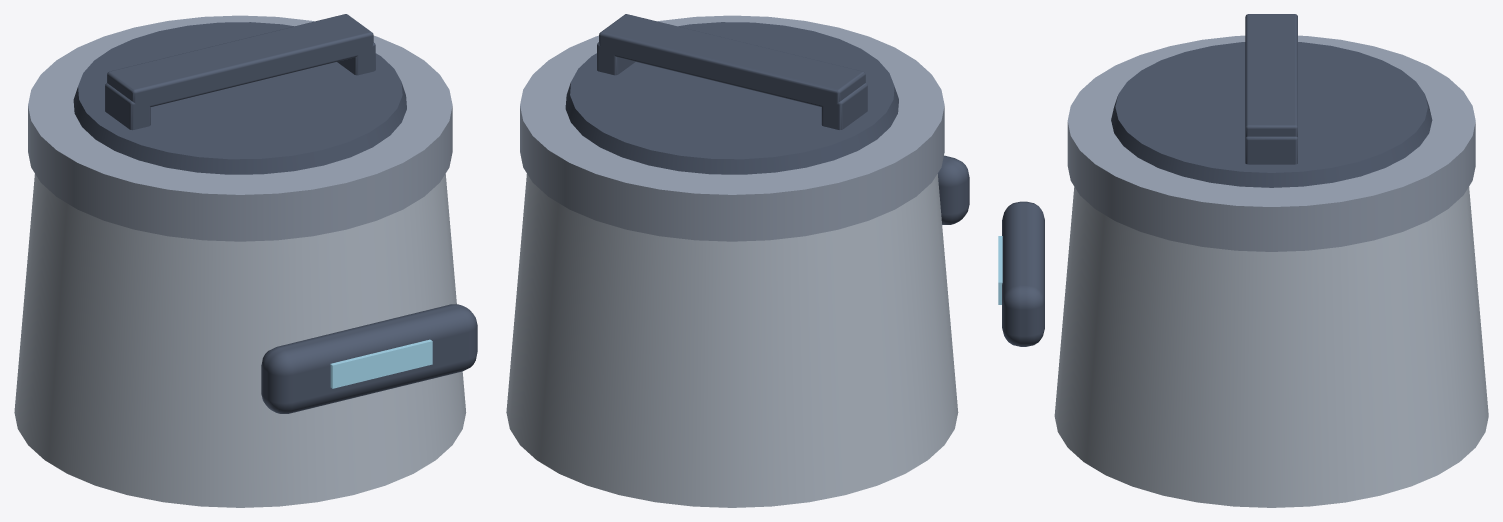
The model's file is ricecooker-lite.glb.
The picture shows the model from 3 angles, left to right: view 1: azimuth 30°, elevation 25°; view 2: azimuth 150°, elevation 25°; view 3: azimuth 270°, elevation 25°; orthographic projection. The views are drawn at different scales.
Visible parts, largest first — view 1: ricecooker; view 2: ricecooker; view 3: ricecooker.
Part boxes in pixels (x1,y1,x2,y2): ricecooker: (14,14,477,507); ricecooker: (506,14,969,507); ricecooker: (998,14,1488,507).
Bounding box in the file's own units: 0.2632 × 0.2319 × 0.2974.
